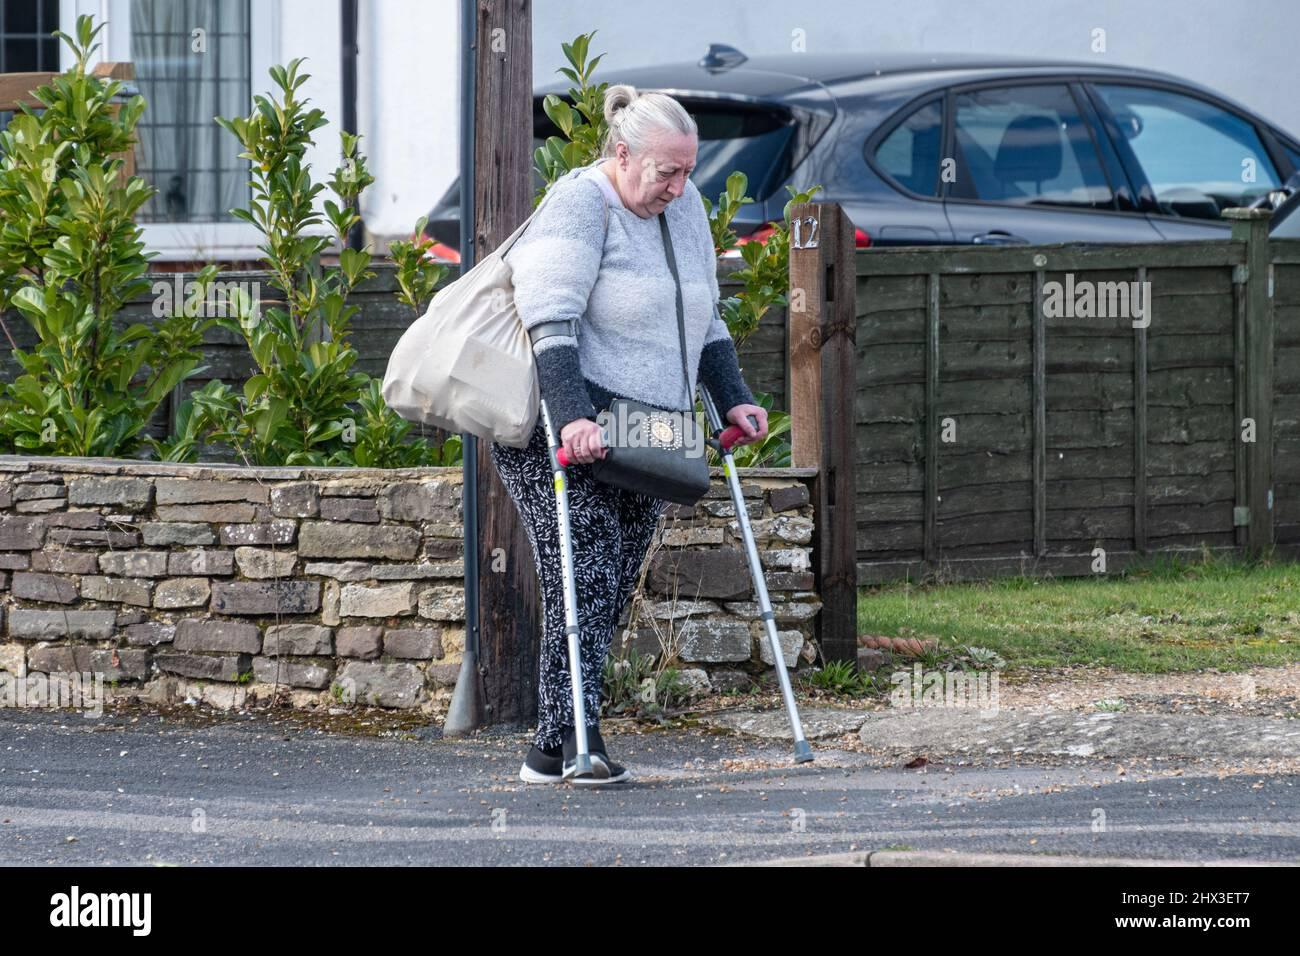crutches: (382, 85, 816, 784)
